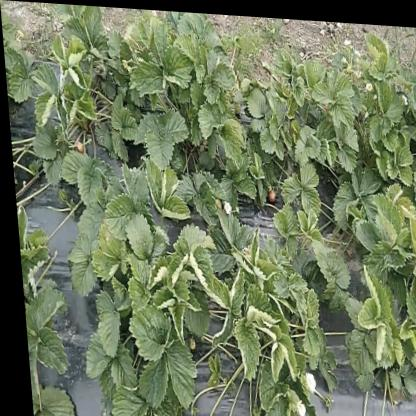ripe: (265, 187, 274, 199)
unripe: (184, 337, 191, 348), (74, 141, 81, 151)
